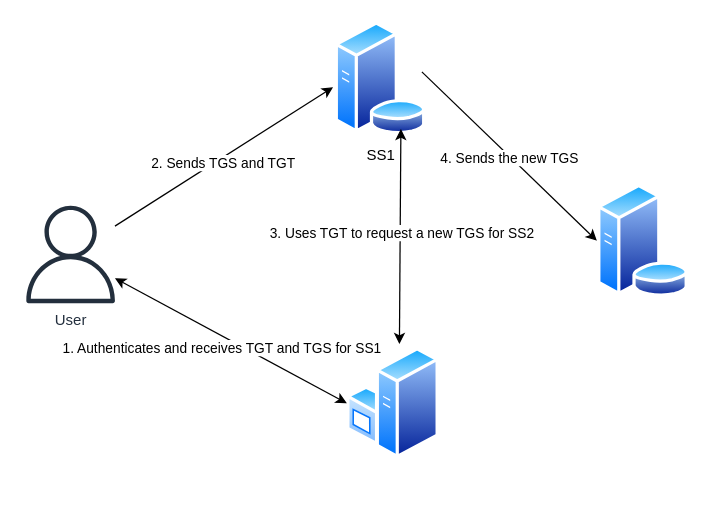
The diagram is 710 pixels wide and 511 high, and some of its shapes have lost their labels. The centre of each missing label's shape, as x and y in pixels:
"DC" belongs at pixel 392 402.
"SS2" belongs at pixel 642 240.
